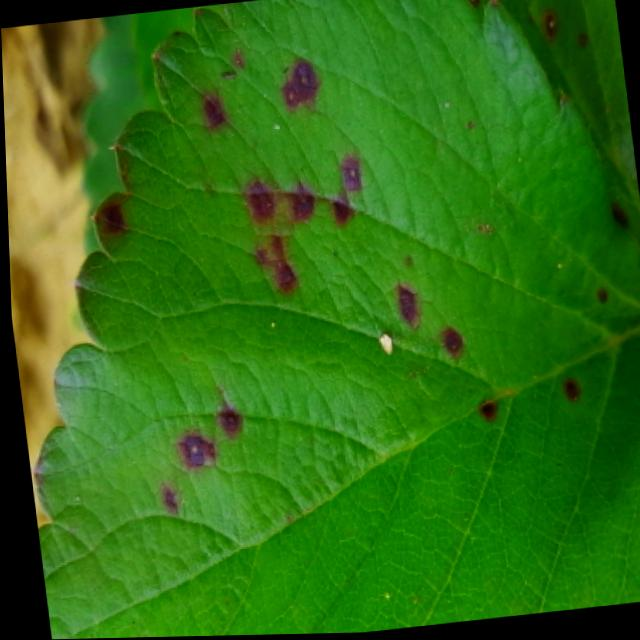Leaf Spot: (27, 0, 640, 640), (499, 0, 640, 246)
